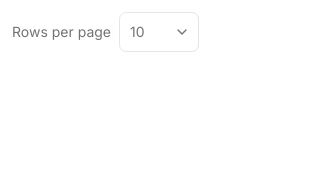
Test case: table page sizes › /inventory offers only 10/30/50 and resets the page while retaining filters
Later steps or results of the test are not shown.
Step 1. Click the dropdown named "Rows per page" → (159, 32), box [119,12,199,52]
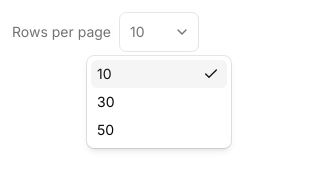
expect the options read "10", "30", "50", in this order: met, box [91,60,227,88]; [97,93,114,110]; [97,121,114,138]
